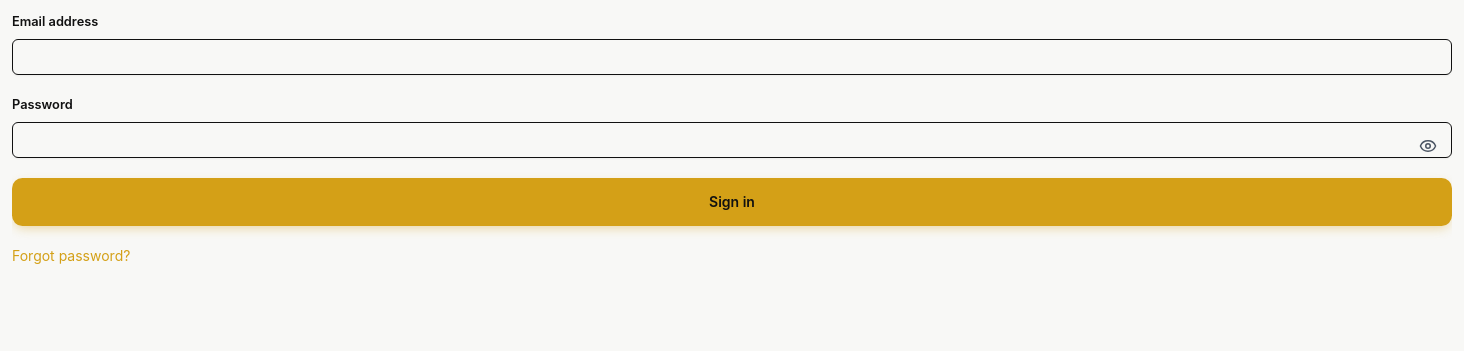
authentication form feedback (server and Auth.js transport mocked) › keeps failed credential feedback generic
The width and height of the screenshot is (1464, 351).
In the field labelled "Email address": (732, 57) [12,39,1452,75], type "owner@example.com"
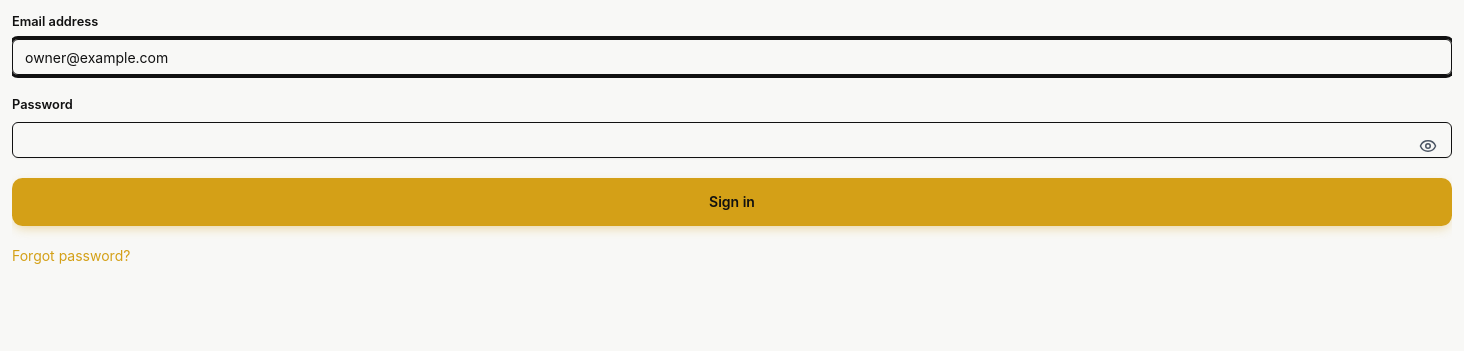
In the password field labelled "Password": (732, 140) [12,122,1452,158], type "wrong password"
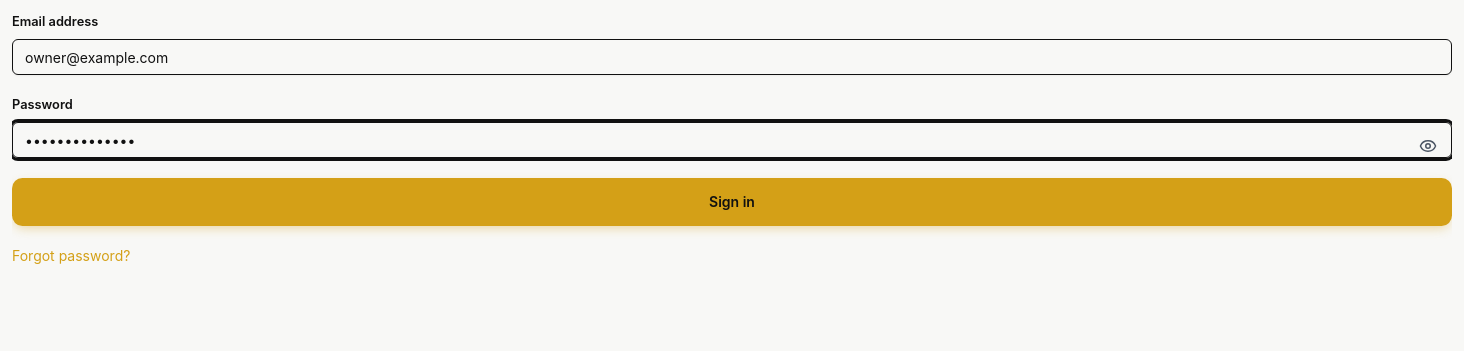
Click the button "Sign in": click(732, 202) [12,178,1452,226]
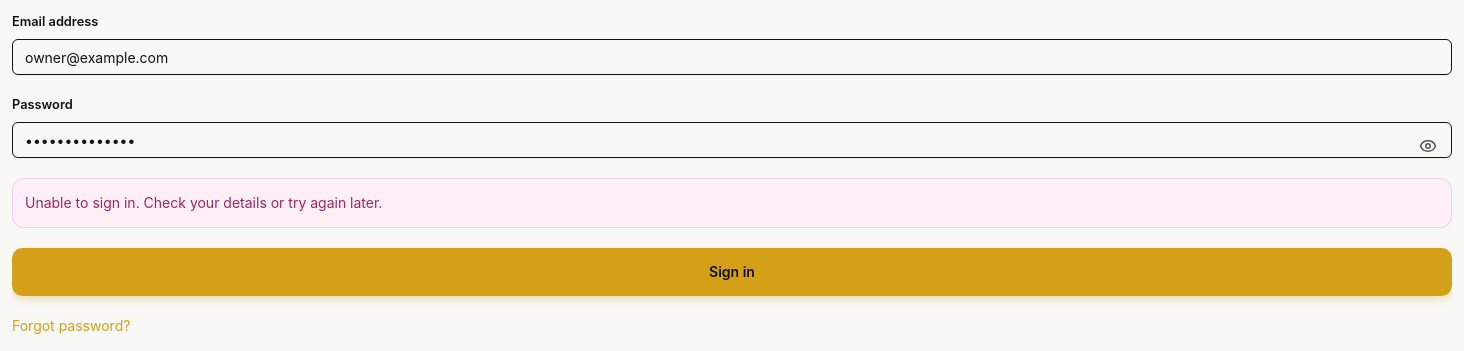
expect the message reads "Unable to sign in. Check your details or try again later.": met, box [25,194,382,211]
